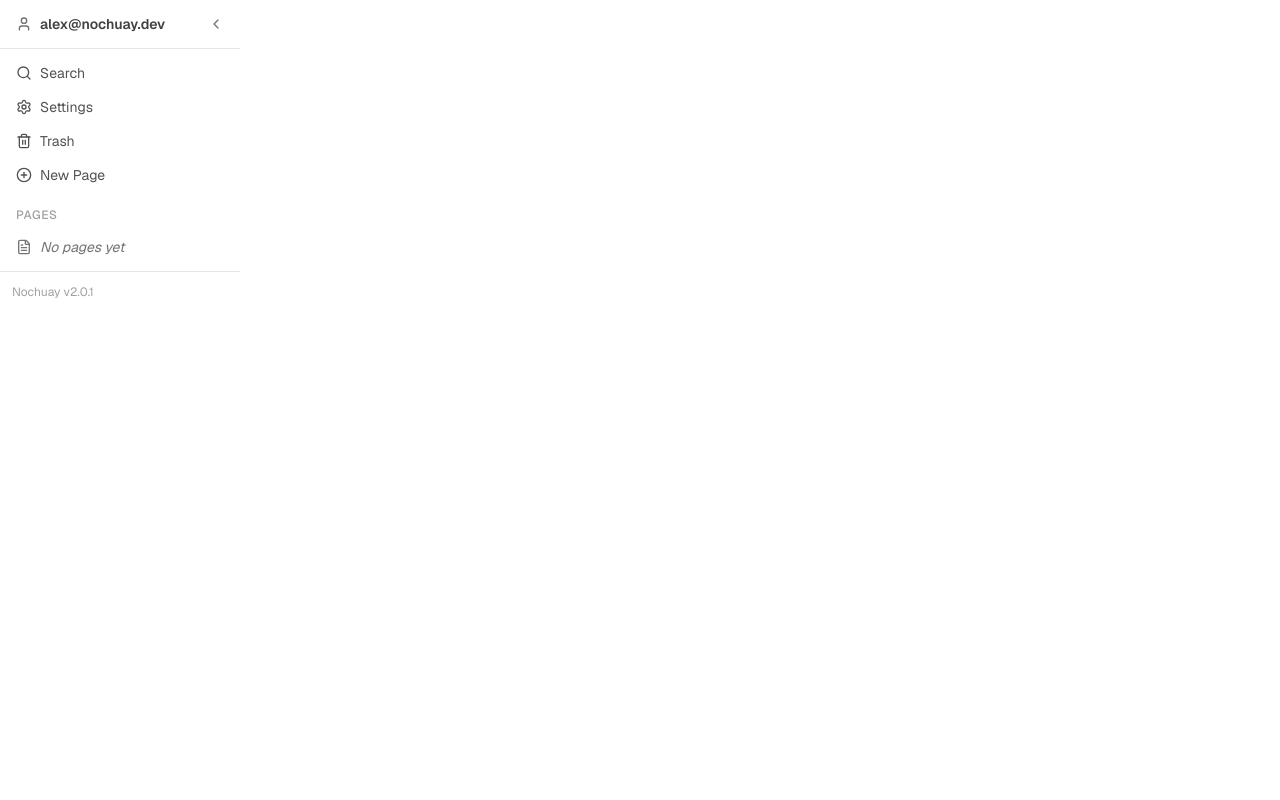
Test: Sidebar › search modal shows empty state when no results
Click the button "Search": click(120, 73) left=8, top=57, right=232, bottom=89
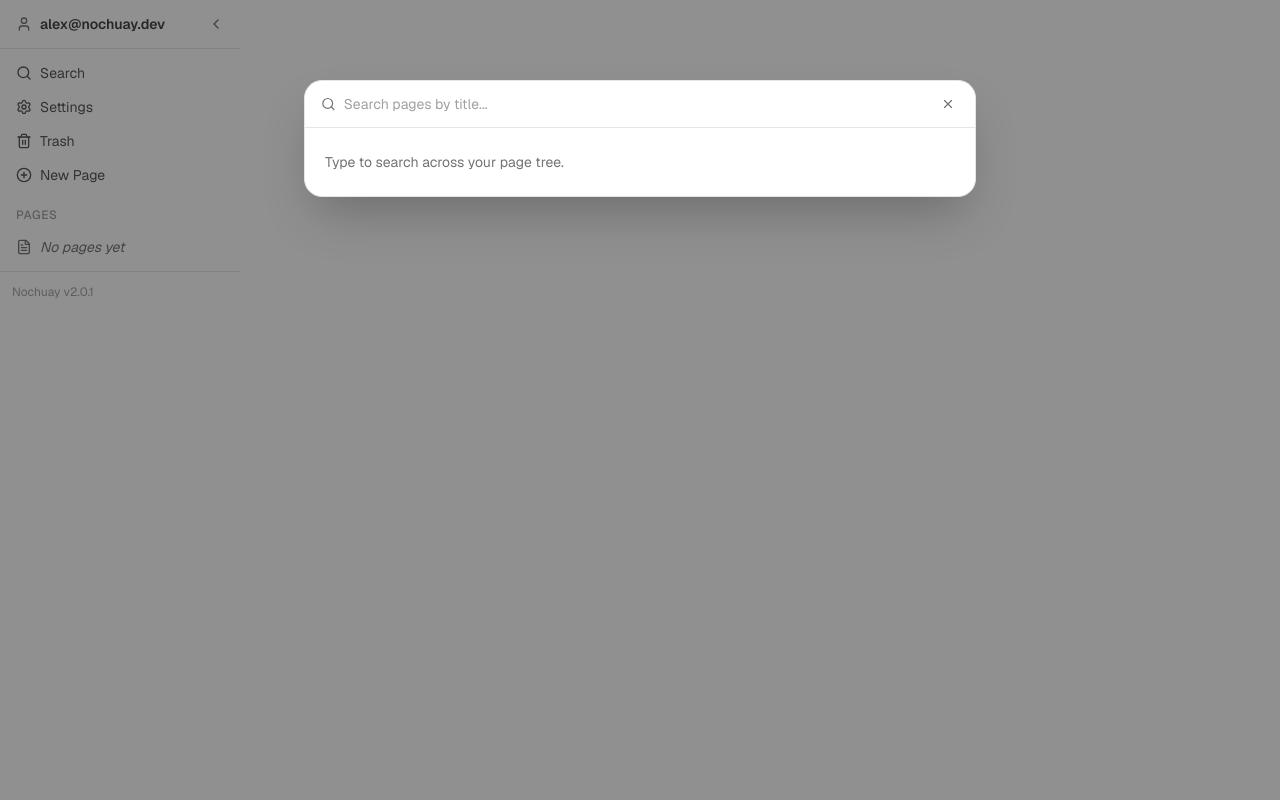
In the field with placeholder "Search pages by title...": (636, 104) left=344, top=94, right=929, bottom=114, type "missing"
Wait 300 ms
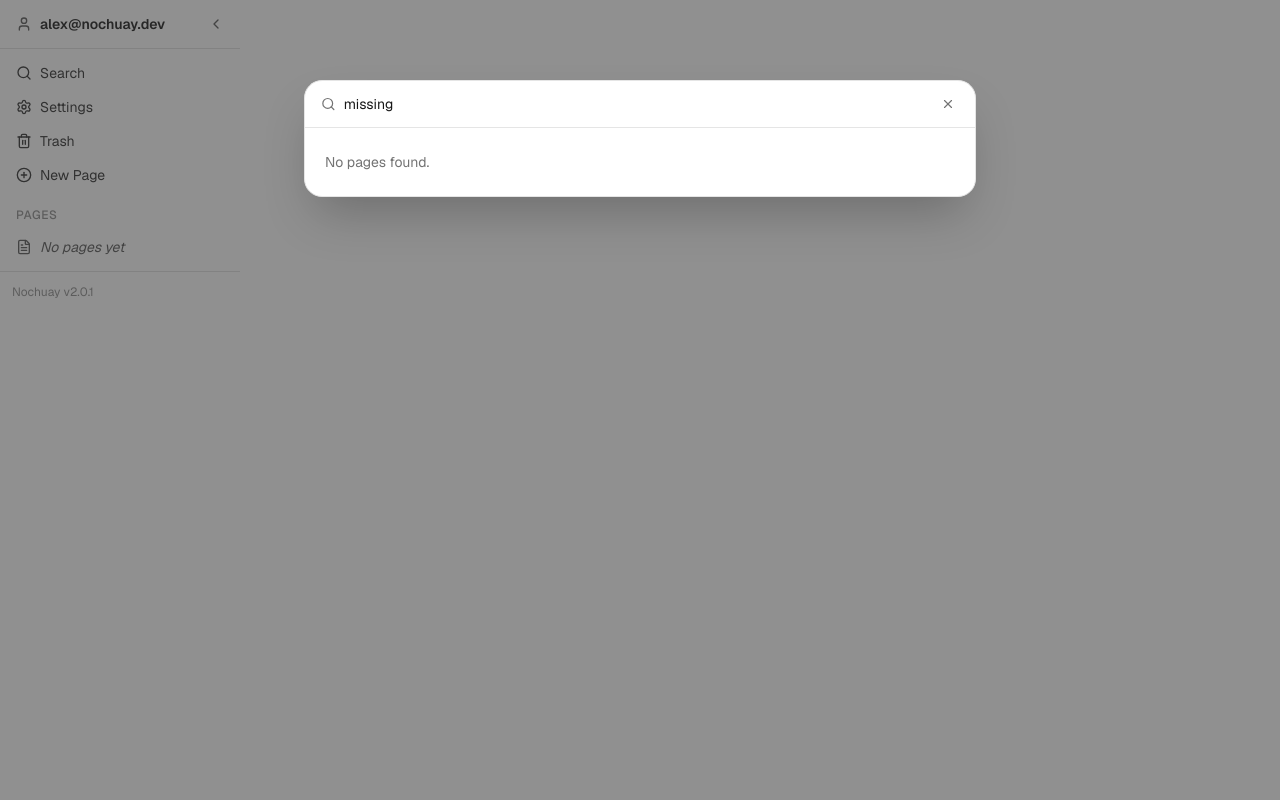
Check: the text "No pages found." is shown, box left=325, top=153, right=429, bottom=171
